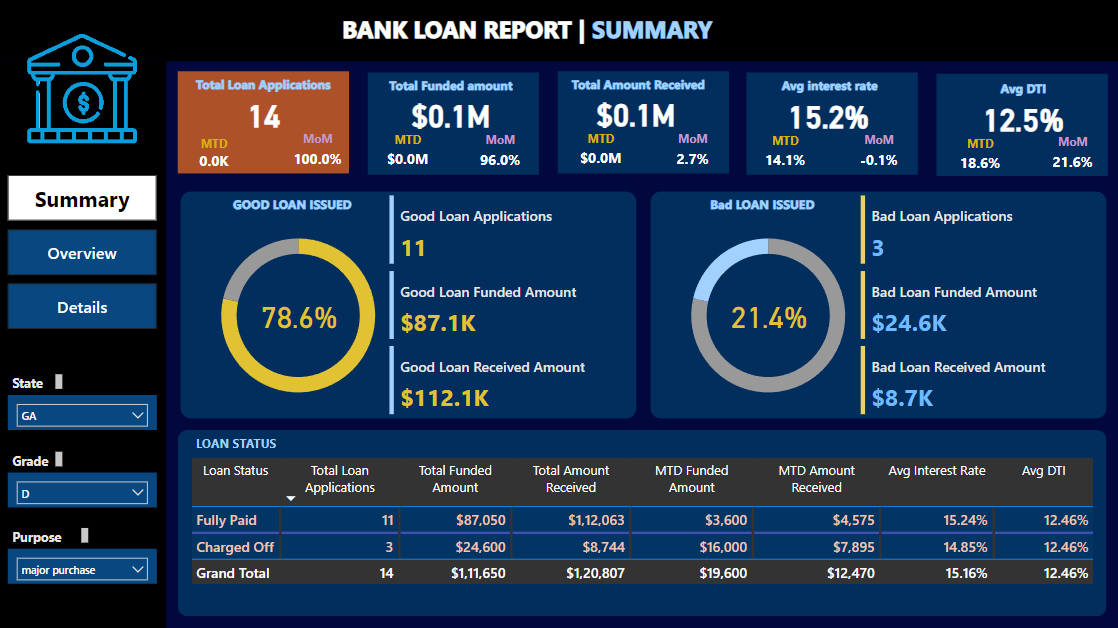

The dashboard page shown, as its layout file describes it:
{"tool":"powerbi","page":{"name":"Summary","canvas":[1280,720],"ordinal":0},"visuals":[{"type":"shape","box":[0,0,1280,70],"z":0},{"type":"shape","box":[0,70,191.4,650],"z":1000},{"type":"textbox","box":[387.1,10,528.6,51.4],"z":2000},{"type":"shape","box":[204.3,81.4,195.7,117.1],"z":3000},{"type":"card","fields":{"Values":["financial_loan.Total Loan Applications"]},"box":[244.3,97.1,117.1,65.7],"z":4000},{"type":"textbox","box":[215.7,81.4,172.9,30],"z":5000},{"type":"card","title":"MTD","fields":{"Values":["financial_loan.MTD Loan Applications"]},"box":[215.7,154.3,60,45.7],"z":6000},{"type":"card","title":"MoM","fields":{"Values":["financial_loan.MoM Loan Applications"]},"box":[328.6,148.6,60,51.4],"z":7000},{"type":"shape","box":[421.1,82.3,195.7,117.1],"z":8000},{"type":"card","fields":{"Values":["financial_loan.Total Funded Amount"]},"box":[444.3,97.1,144.3,65.7],"z":9000},{"type":"textbox","box":[430.3,82.3,172.9,30],"z":10000},{"type":"card","title":"MTD","fields":{"Values":["financial_loan.MTD Funded Amount"]},"box":[430,150,74.3,50],"z":11000},{"type":"card","title":"MoM","fields":{"Values":["financial_loan.MoM Total Funded Amount"]},"box":[543.1,149.4,60,51.4],"z":12000},{"type":"shape","box":[1071.7,84.3,195.7,117.1],"z":13000},{"type":"card","fields":{"Values":["financial_loan.Avg DTI"]},"box":[1098.3,100.9,144.3,65.7],"z":14000},{"type":"textbox","box":[1084.3,86,172.9,30],"z":15000},{"type":"card","title":"MTD","fields":{"Values":["financial_loan.MTD Avg DTI"]},"box":[1084,153.7,74.3,50],"z":16000},{"type":"card","title":"MoM","fields":{"Values":["financial_loan.MoM Avg DIT"]},"box":[1197.1,153.1,60,51.4],"z":17000},{"type":"shape","box":[638,80.9,195.7,117.1],"z":18000},{"type":"card","fields":{"Values":["financial_loan.Total Amount Received"]},"box":[658.6,95.7,138.6,65.7],"z":19000},{"type":"textbox","box":[644.9,80.9,172.9,30],"z":20000},{"type":"card","title":"MTD","fields":{"Values":["financial_loan.MTD Amount Received"]},"box":[644.3,148.6,87.1,50],"z":21000},{"type":"card","title":"MoM","fields":{"Values":["financial_loan.MoM Amount Received"]},"box":[757.1,148.6,71.4,51.4],"z":22000},{"type":"shape","box":[854.9,83.4,195.7,117.1],"z":23000},{"type":"card","fields":{"Values":["financial_loan.Avg Interest Rate"]},"box":[876.3,98.3,144.3,65.7],"z":24000},{"type":"textbox","box":[862.3,83.4,172.9,30],"z":25000},{"type":"card","title":"MTD","fields":{"Values":["financial_loan.MTD Avg Int Rate"]},"box":[862,151.1,74.3,50],"z":26000},{"type":"card","title":"MoM","fields":{"Values":["financial_loan.MoM Avg Int Rate"]},"box":[975.1,150.6,60,51.4],"z":27000},{"type":"shape","box":[206.7,218.3,521.7,260],"z":28000},{"type":"donutChart","fields":{"Category":["financial_loan.Good v Bad Loan"],"Y":["financial_loan.Total Loan Applications"]},"box":[216.7,245,250,230],"z":29000},{"type":"card","fields":{"Values":["financial_loan.Good Loan %"]},"box":[278.3,326.7,128.3,66.7],"z":30000},{"type":"textbox","box":[248.3,218.3,173.3,30],"z":31000},{"type":"cardVisual","fields":{"Data":["financial_loan.Good Loan Applications","financial_loan.Good Loan Funded Amount","financial_loan.Good Loan Received Amount"]},"box":[441.7,218.3,286.7,260],"z":32000},{"type":"shape","box":[744.7,219,521.7,260],"z":33000},{"type":"donutChart","fields":{"Category":["financial_loan.Good v Bad Loan"],"Y":["financial_loan.Total Loan Applications"]},"box":[754.7,245.7,250,230],"z":34000},{"type":"card","fields":{"Values":["financial_loan.Bad Loan %"]},"box":[816.3,327.3,128.3,66.7],"z":35000},{"type":"textbox","box":[786.3,219,173.3,30],"z":36000},{"type":"cardVisual","fields":{"Data":["financial_loan.Bad Loan Applications","financial_loan.Bad Loan Funded Amount","financial_loan.Bad Loan Received Amount"]},"box":[979.7,219,286.7,260],"z":37000},{"type":"shape","box":[204.3,491.4,1061.4,212.9],"z":38000},{"type":"tableEx","fields":{"Values":["financial_loan.loan_status","financial_loan.Total Loan Applications","financial_loan.Total Funded Amount","financial_loan.Total Amount Received","financial_loan.MTD Funded Amount","financial_loan.MTD Amount Received","financial_loan.Avg Interest Rate","financial_loan.Avg DTI"]},"box":[214.3,518.6,1041.4,185.7],"z":39000},{"type":"textbox","box":[220,491.4,201.4,32.9],"z":40000},{"type":"slicer","fields":{"Values":["financial_loan.address_state"]},"box":[10,451.4,170,40],"z":41000},{"type":"textbox","box":[10,422.9,67.1,28.6],"z":42000},{"type":"slicer","fields":{"Values":["financial_loan.grade"]},"box":[10,540,170,40],"z":43000},{"type":"textbox","box":[10,511.4,67.1,28.6],"z":44000},{"type":"textbox","box":[10,598.6,97.1,28.6],"z":45000},{"type":"slicer","fields":{"Values":["financial_loan.purpose"]},"box":[10,627.1,170,40],"z":46000},{"type":"image","box":[25.7,31.4,138.6,140],"z":46001},{"type":"pageNavigator","box":[10,200,170,178.6],"z":46002}]}

Visuals, with their boxes in screenshot pixels (x1, y1, x2, y2), scaled from the page's 1280x720 canvas onto the 1118x628 screenshot:
shape: region(0, 0, 1117, 61)
shape: region(0, 61, 167, 627)
textbox: region(338, 9, 800, 54)
shape: region(178, 71, 349, 173)
card - financial_loan.Total Loan Applications: region(213, 85, 316, 142)
textbox: region(188, 71, 339, 97)
"MTD" card: region(188, 135, 241, 174)
"MoM" card: region(287, 130, 339, 174)
shape: region(368, 72, 539, 174)
card - financial_loan.Total Funded Amount: region(388, 85, 514, 142)
textbox: region(376, 72, 527, 98)
"MTD" card: region(376, 131, 440, 174)
"MoM" card: region(474, 130, 527, 175)
shape: region(936, 74, 1107, 176)
card - financial_loan.Avg DTI: region(959, 88, 1085, 145)
textbox: region(947, 75, 1098, 101)
"MTD" card: region(947, 134, 1012, 178)
"MoM" card: region(1046, 134, 1098, 178)
shape: region(557, 71, 728, 173)
card - financial_loan.Total Amount Received: region(575, 83, 696, 141)
textbox: region(563, 71, 714, 97)
"MTD" card: region(563, 130, 639, 173)
"MoM" card: region(661, 130, 724, 174)
shape: region(747, 73, 918, 175)
card - financial_loan.Avg Interest Rate: region(765, 86, 891, 143)
textbox: region(753, 73, 904, 99)
"MTD" card: region(753, 132, 818, 175)
"MoM" card: region(852, 131, 904, 176)
shape: region(181, 190, 636, 417)
donutChart - financial_loan.Good v Bad Loan x financial_loan.Total Loan Applications: region(189, 214, 408, 414)
card - financial_loan.Good Loan %: region(243, 285, 355, 343)
textbox: region(217, 190, 368, 217)
cardVisual - financial_loan.Good Loan Applications x financial_loan.Good Loan Funded Amount: region(386, 190, 636, 417)
shape: region(650, 191, 1106, 418)
donutChart - financial_loan.Good v Bad Loan x financial_loan.Total Loan Applications: region(659, 214, 878, 415)
card - financial_loan.Bad Loan %: region(713, 285, 825, 344)
textbox: region(687, 191, 838, 217)
cardVisual - financial_loan.Bad Loan Applications x financial_loan.Bad Loan Funded Amount: region(856, 191, 1106, 418)
shape: region(178, 429, 1106, 614)
tableEx - financial_loan.loan_status x financial_loan.Total Loan Applications: region(187, 452, 1097, 614)
textbox: region(192, 429, 368, 457)
slicer - financial_loan.address_state: region(9, 394, 157, 429)
textbox: region(9, 369, 67, 394)
slicer - financial_loan.grade: region(9, 471, 157, 506)
textbox: region(9, 446, 67, 471)
textbox: region(9, 522, 94, 547)
slicer - financial_loan.purpose: region(9, 547, 157, 582)
image: region(22, 27, 144, 149)
pageNavigator: region(9, 174, 157, 330)
